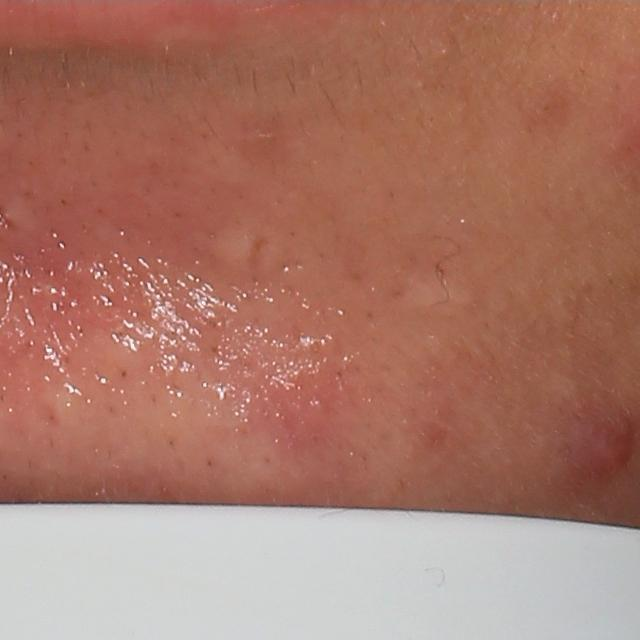hypertrophic_scar: (403, 267, 473, 314), (211, 228, 256, 265)
papule: (580, 405, 639, 475)
